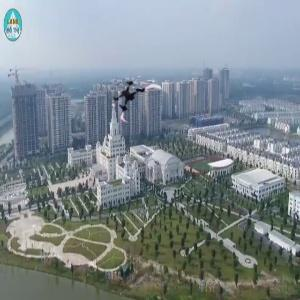drone: (107, 74, 159, 126)
